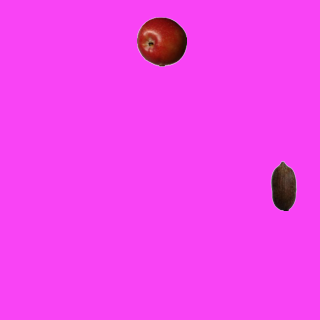Apple Braeburn: (136, 16, 186, 66)
Nut Pecan: (258, 160, 308, 210)
